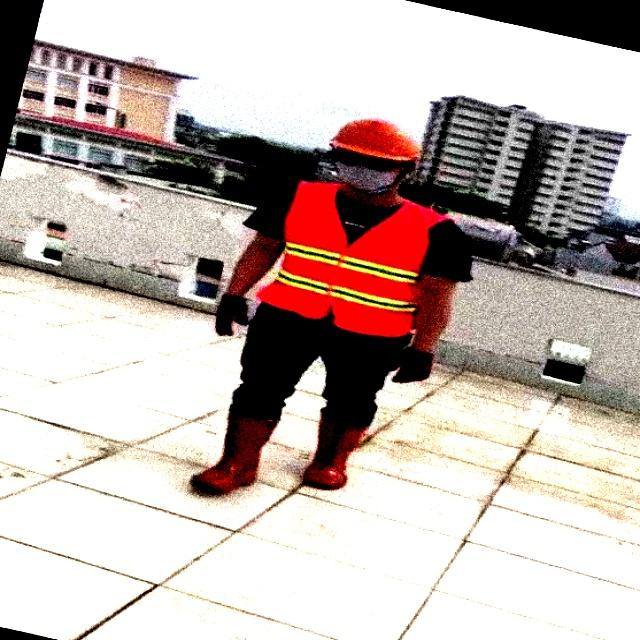Capacete: (330, 119, 420, 161)
Colete: (258, 182, 444, 336)
Oculos: (330, 150, 403, 171)
Pessoa: (191, 119, 471, 493)
